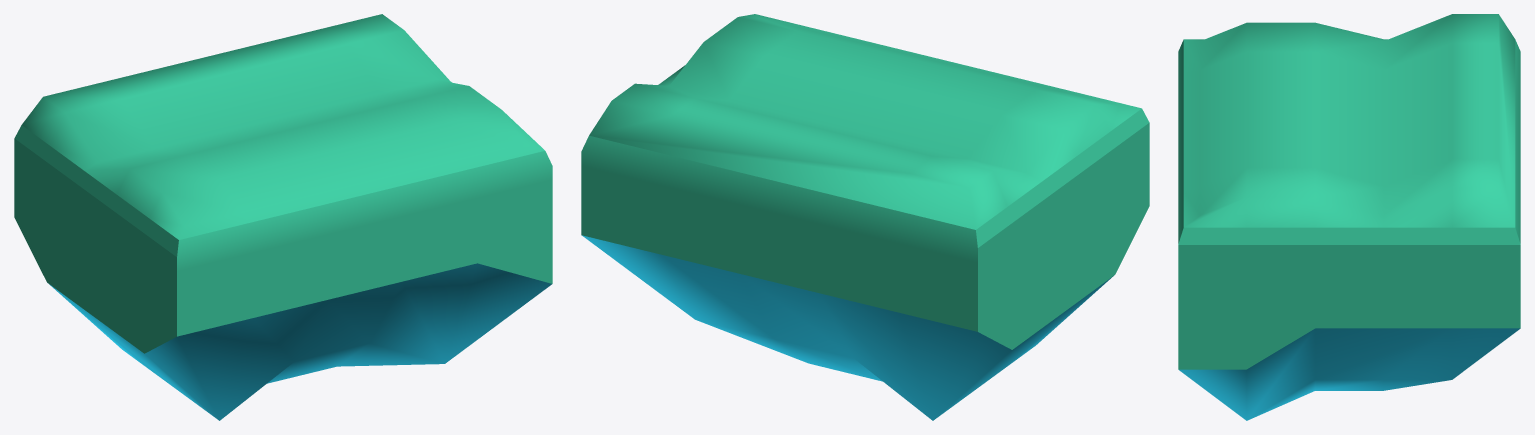
Rendered from Floating Platform.fbx.
3 views of the same model, side by side, from view 1: azimuth 30°, elevation 25°; view 2: azimuth 150°, elevation 25°; view 3: azimuth 270°, elevation 25° (orthographic). The views are drawn at different scales.
Visible parts, largest first — view 1: Floating Platform; view 2: Floating Platform; view 3: Floating Platform.
Boxes of the visible parts, x1=… form: Floating Platform: x1=14, y1=14, x2=552, y2=420; Floating Platform: x1=581, y1=14, x2=1149, y2=420; Floating Platform: x1=1178, y1=14, x2=1520, y2=420.
Bounding box in the file's own units: 40 × 26.12 × 30.
Materials: 2 (2 with a texture image).
